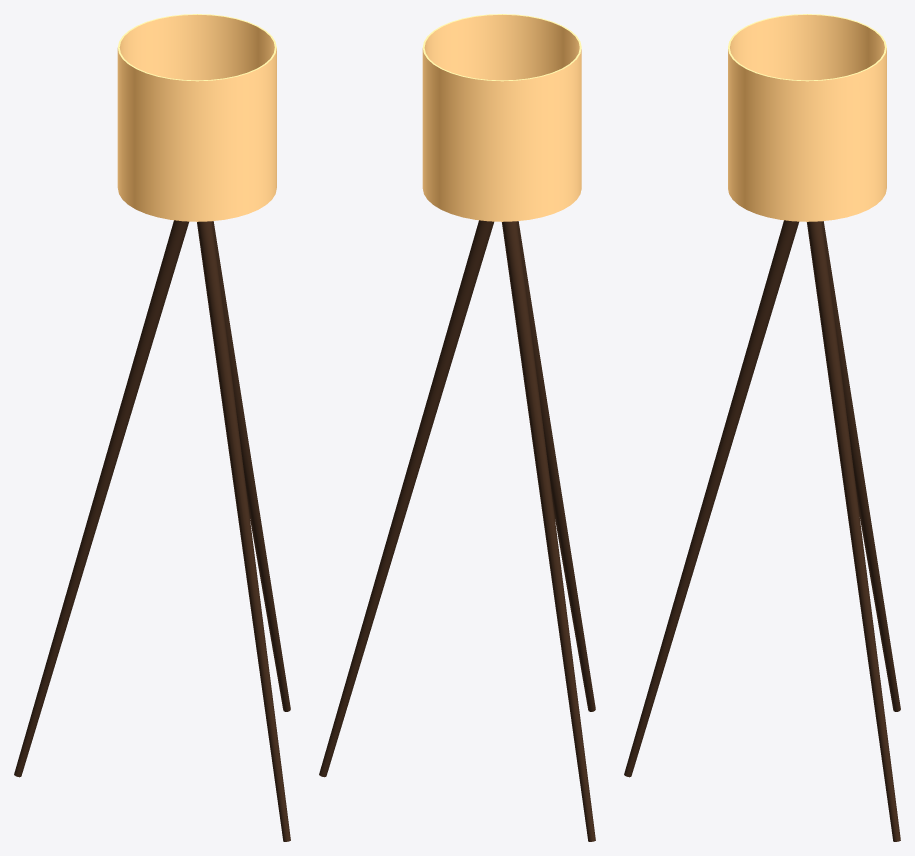
File: Floor_Lamp_Tripod_RoundShade.fbx
3 renders of one model, left to right at view 1: azimuth 30°, elevation 25°; view 2: azimuth 150°, elevation 25°; view 3: azimuth 270°, elevation 25°, orthographic.
Parts seen in each view (by area): view 1: Floor_Lamp_Tripod_RoundShade; view 2: Floor_Lamp_Tripod_RoundShade; view 3: Floor_Lamp_Tripod_RoundShade.
Boxes of the visible parts, x1,y1,x2,y2 form: Floor_Lamp_Tripod_RoundShade: (14, 14, 290, 841); Floor_Lamp_Tripod_RoundShade: (319, 14, 595, 841); Floor_Lamp_Tripod_RoundShade: (624, 14, 900, 841).
Bounding box in the file's own units: 82.09 × 207 × 71.37.
